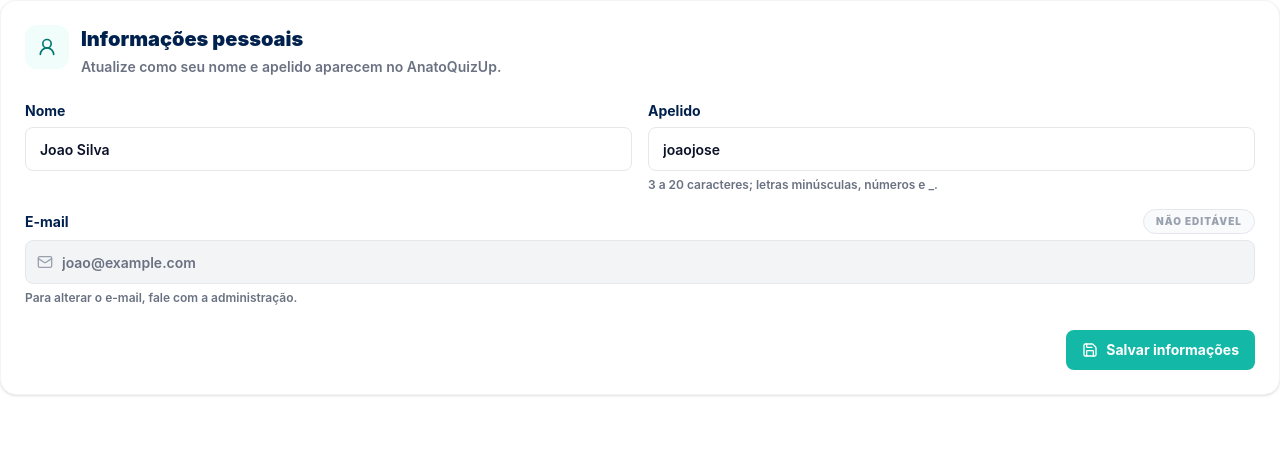
Test: InformacoesPessoaisForm › salva dados pessoais validos e recarrega usuario
Replace the text in the field labelled "Nome" with "Joao Novo" at (328, 149), box [25,127,632,171]
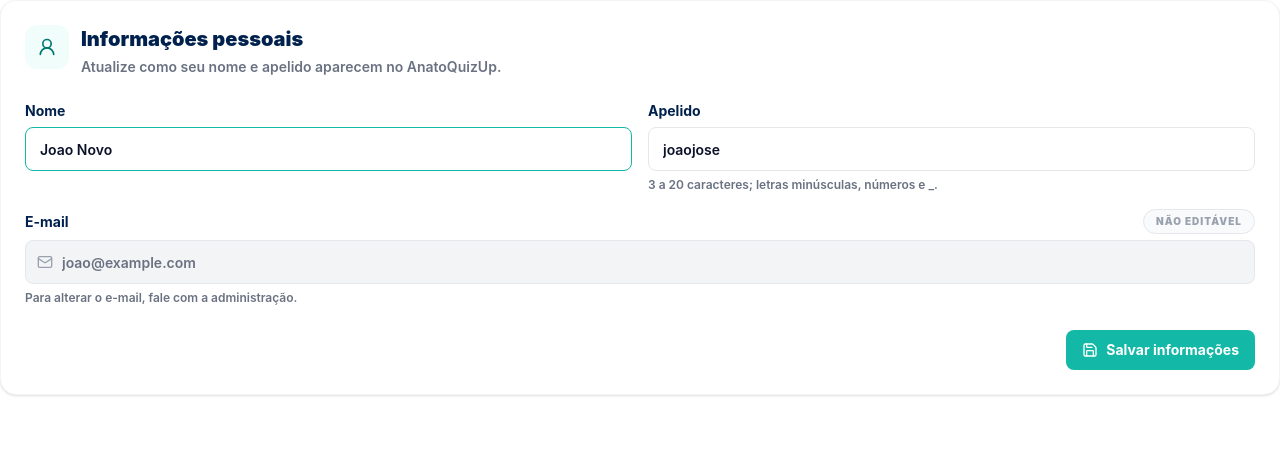
Replace the text in the field labelled "Apelido" with "Joao_Novo" at (952, 149), box [648,127,1255,171]
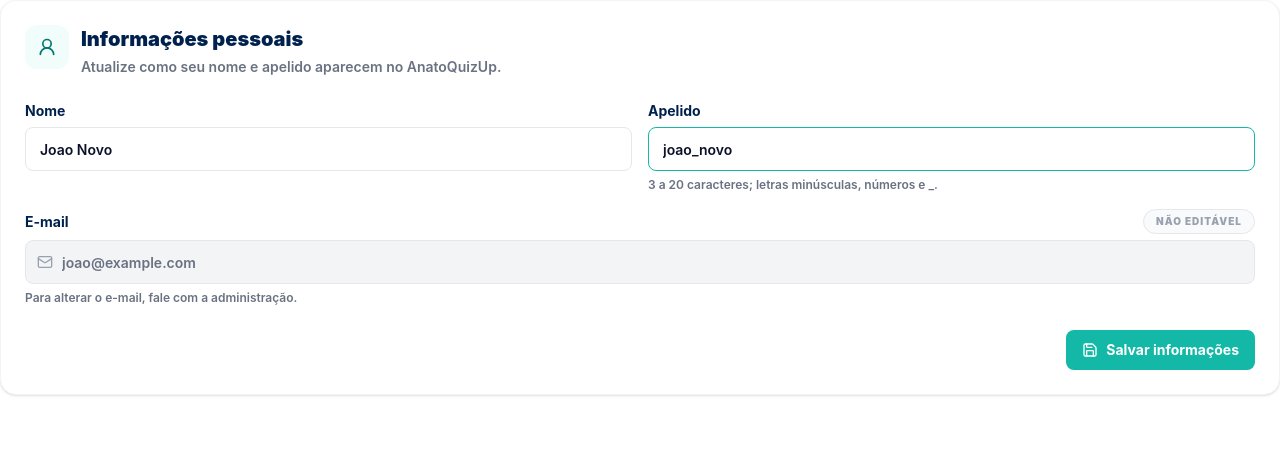
Click the button "Salvar informações" at (1161, 350), box [1066,330,1255,370]
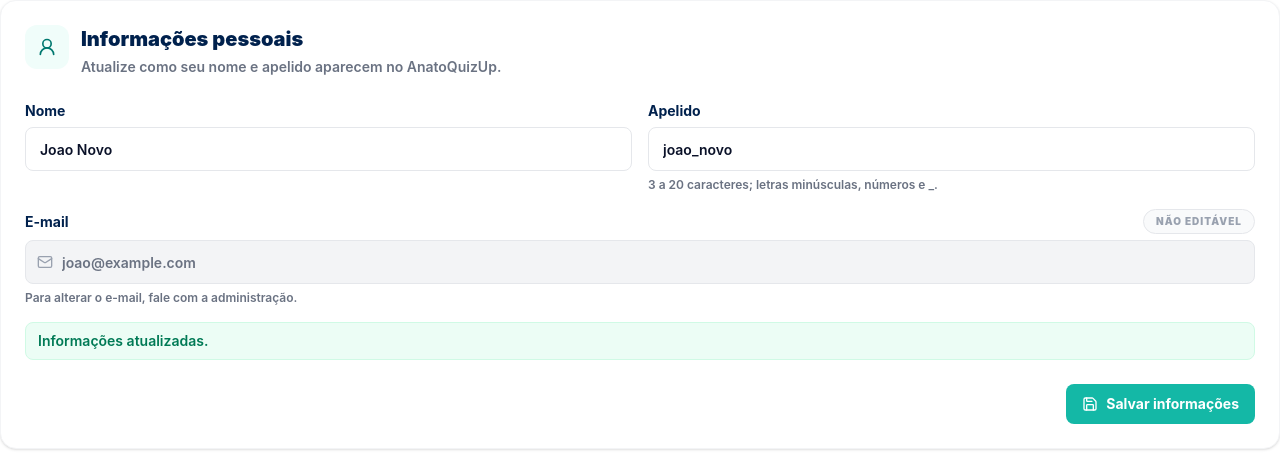
Expected: the text "Informações atualizadas." is shown, [25,322,1255,360]
